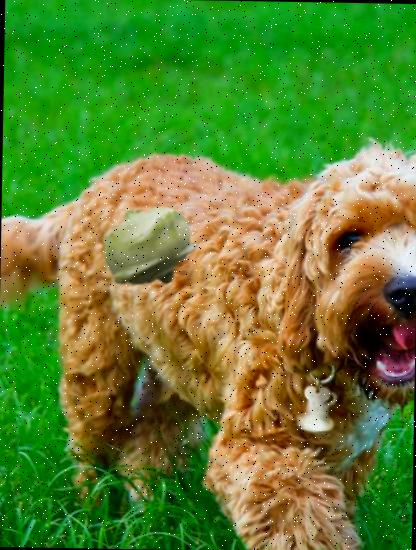Kohlrabi: (98, 196, 198, 296)
